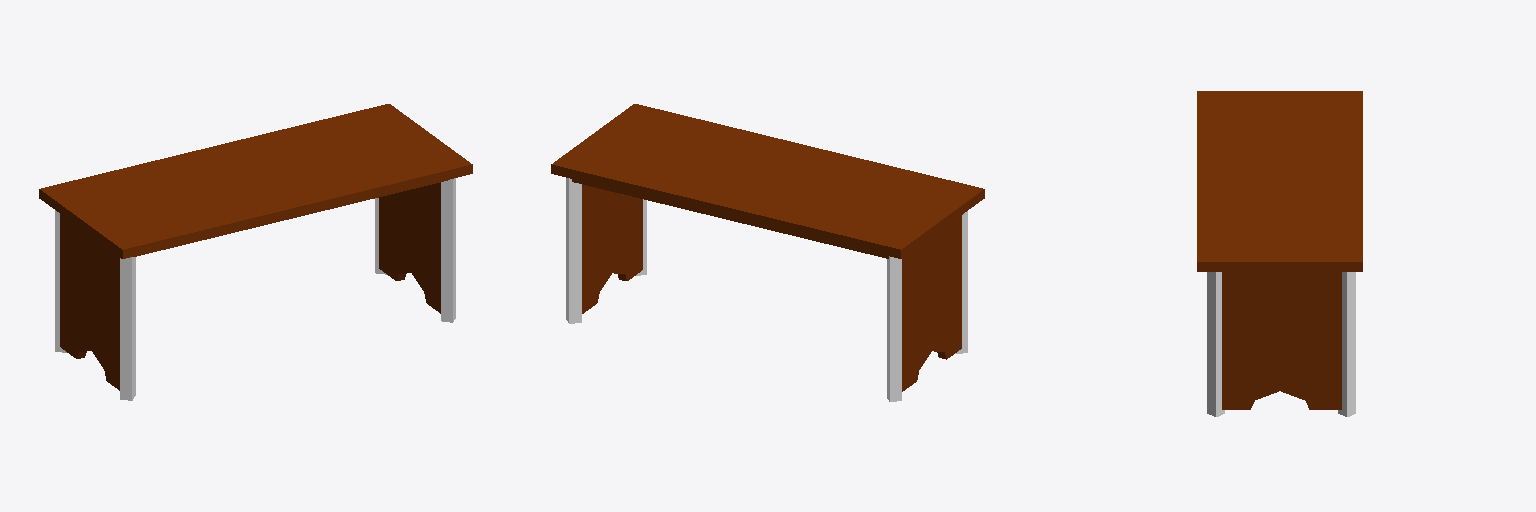
Rendered from tavolo_sala.obj.
The picture shows the model from 3 angles: view 1: azimuth 30°, elevation 25°; view 2: azimuth 150°, elevation 25°; view 3: azimuth 270°, elevation 25°; orthographic projection.
Visible parts, largest first — view 1: Boolean_8, Cylinder_1_1, Cylinder_1, Cylinder_1_2; view 2: Boolean_8, Cylinder_1_3, Cylinder_1_2, Cylinder_1_1; view 3: Boolean_8, Cylinder_1, Cylinder_1_3.
Part boxes in pixels (bbox=[...]): Boolean_8: bbox=[39, 104, 472, 390]; Cylinder_1_1: bbox=[120, 257, 135, 400]; Cylinder_1: bbox=[441, 178, 455, 322]; Cylinder_1_2: bbox=[55, 210, 66, 352]; Boolean_8: bbox=[551, 104, 984, 391]; Cylinder_1_3: bbox=[566, 178, 581, 323]; Cylinder_1_2: bbox=[887, 256, 901, 401]; Cylinder_1_1: bbox=[955, 211, 967, 353]; Boolean_8: bbox=[1197, 91, 1362, 409]; Cylinder_1: bbox=[1207, 272, 1224, 416]; Cylinder_1_3: bbox=[1338, 272, 1355, 416].
Bounding box in the file's own units: 3.86 × 1.67 × 1.59.